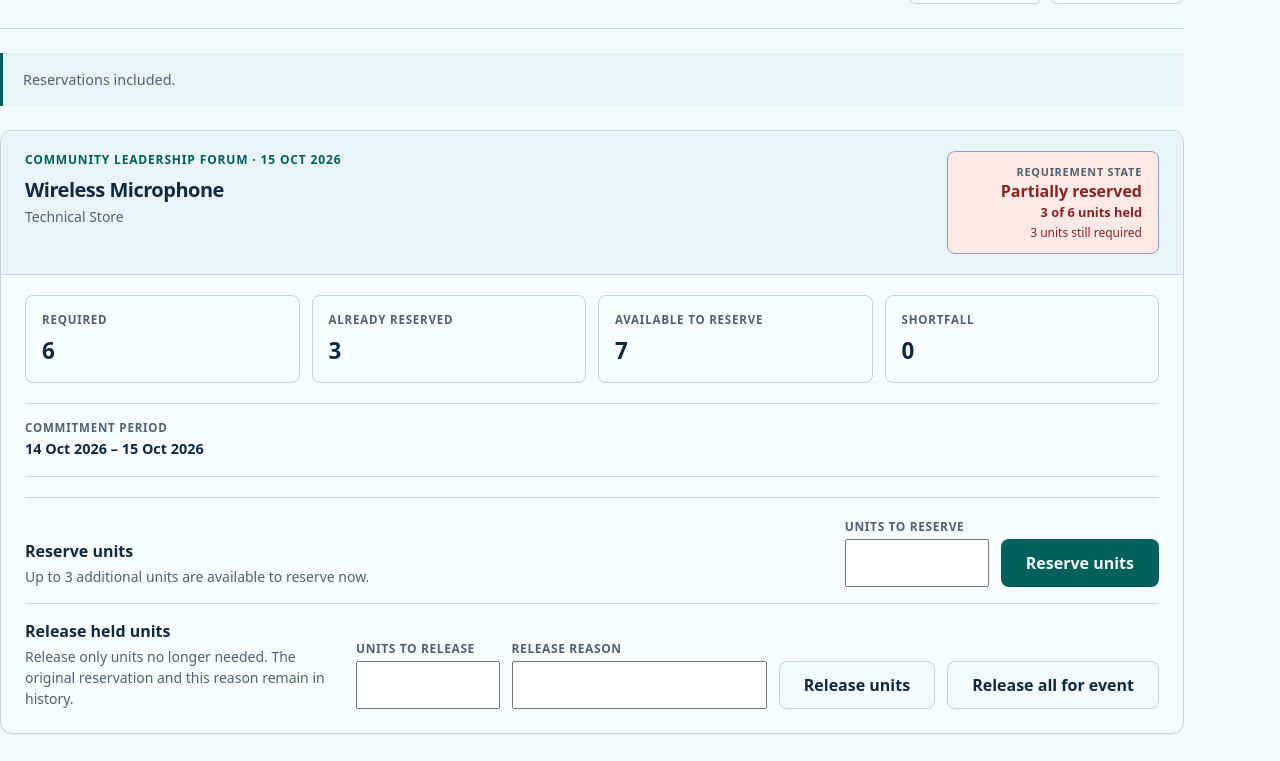
Scenario: [TC-SPL-98-06] validates the reason and held quantity before a release request
Type "4" into the number field labelled "Units to release" at {"x": 428, "y": 685}, box [356, 661, 500, 709]
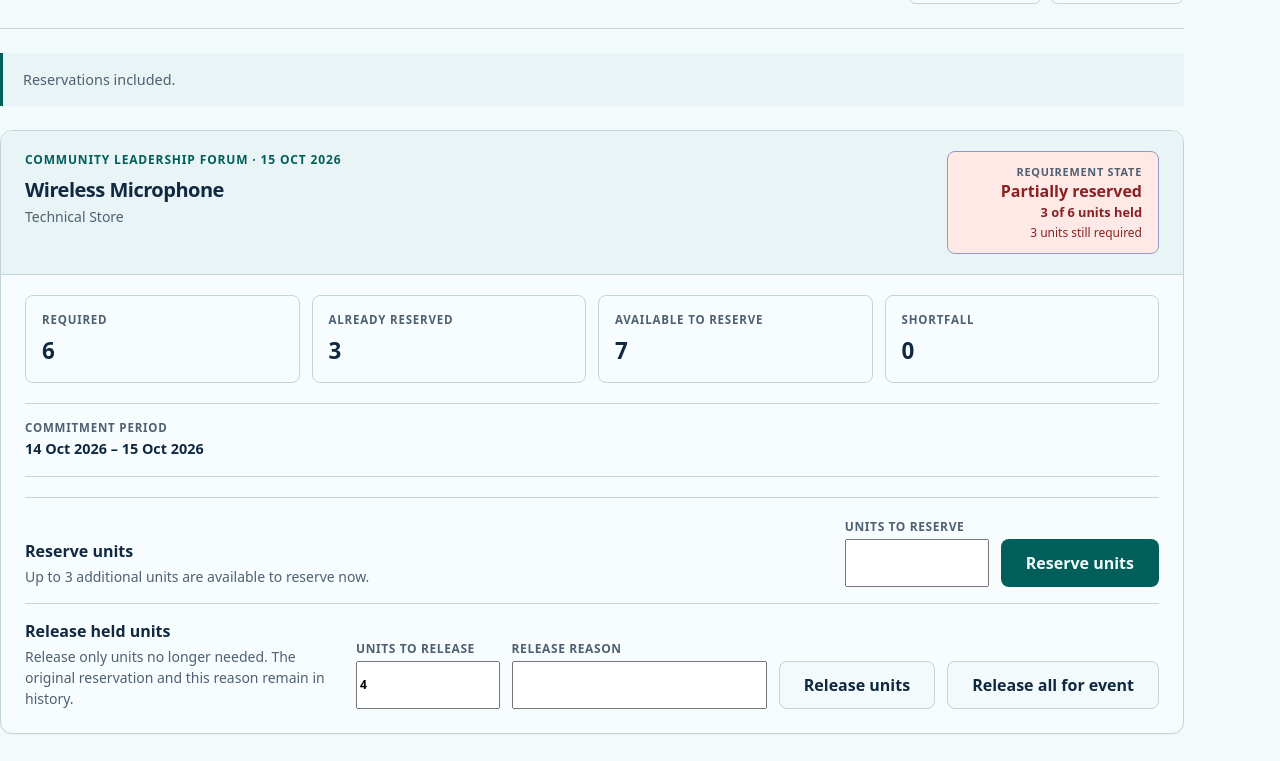
Click the button "Release units" at {"x": 857, "y": 685}, box [779, 661, 935, 709]
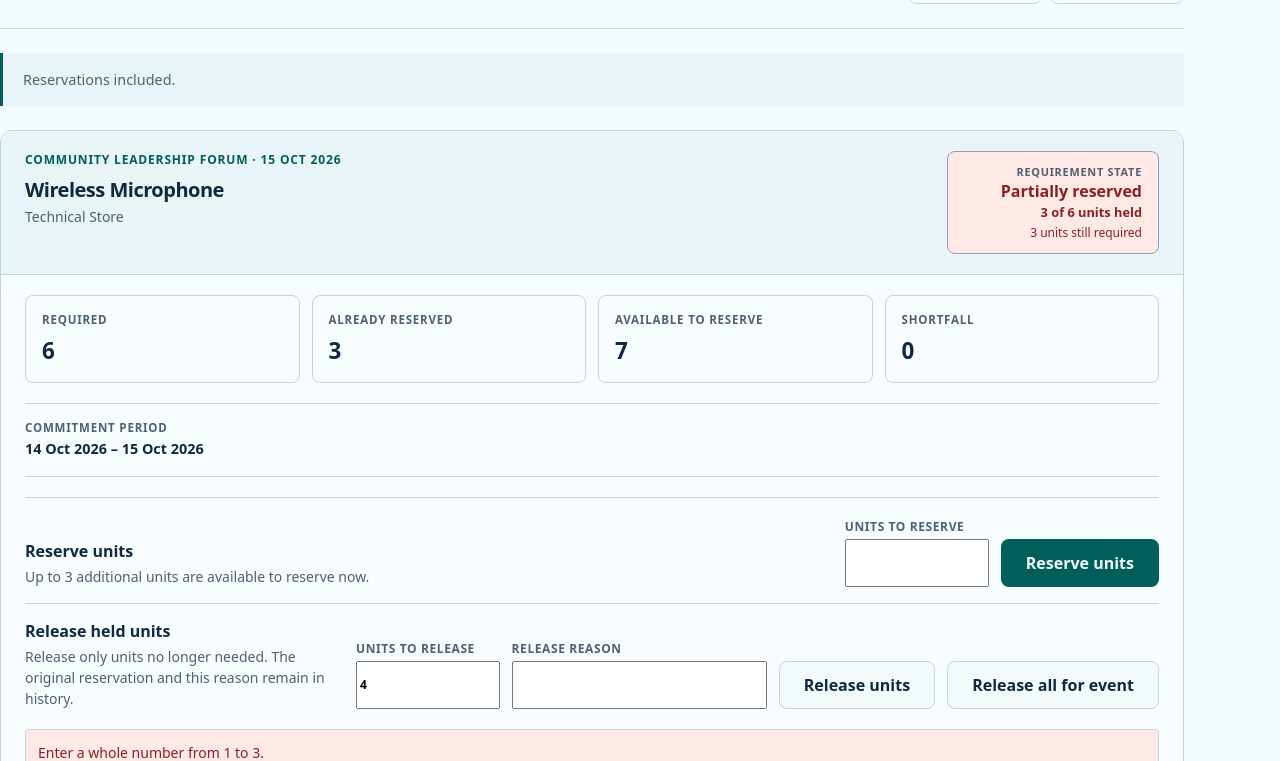
Replace the text in the number field labelled "Units to release" with "2" at {"x": 428, "y": 685}, box [356, 661, 500, 709]
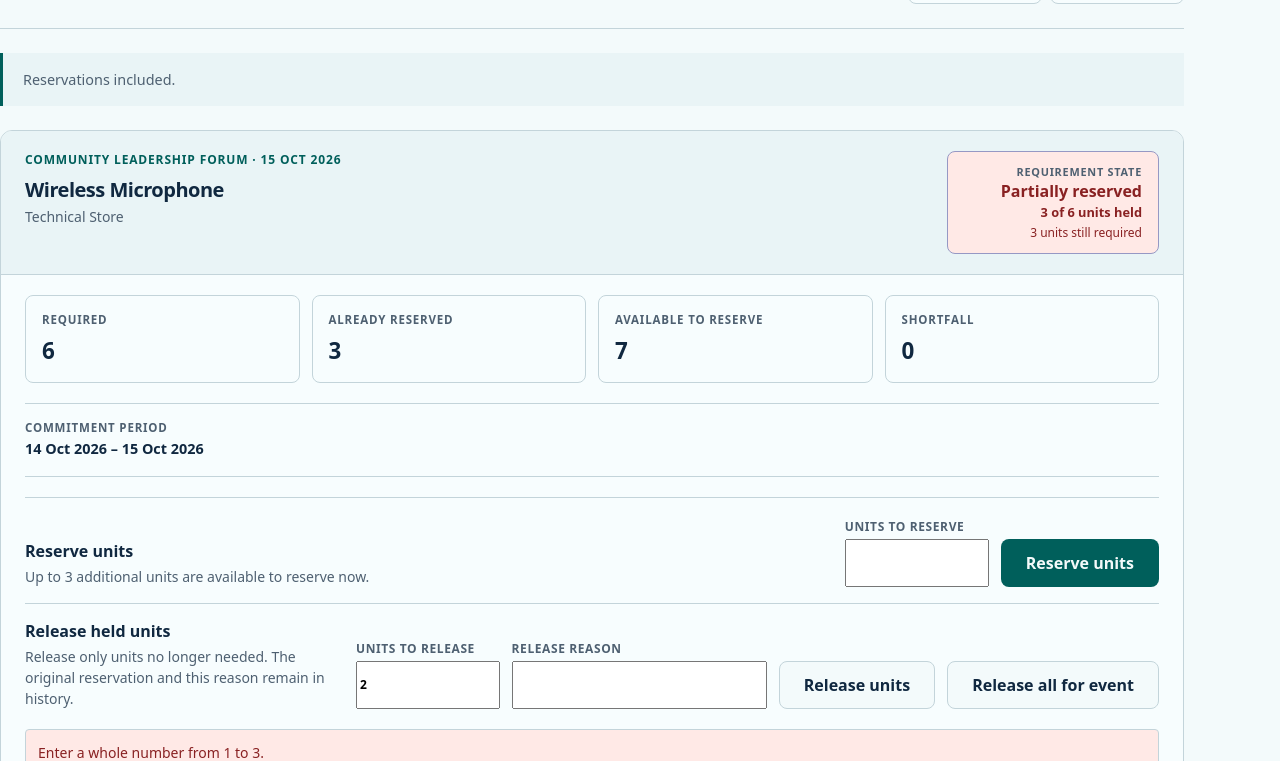
Click the button "Release units" at {"x": 857, "y": 685}, box [779, 661, 935, 709]
(page scrolled)
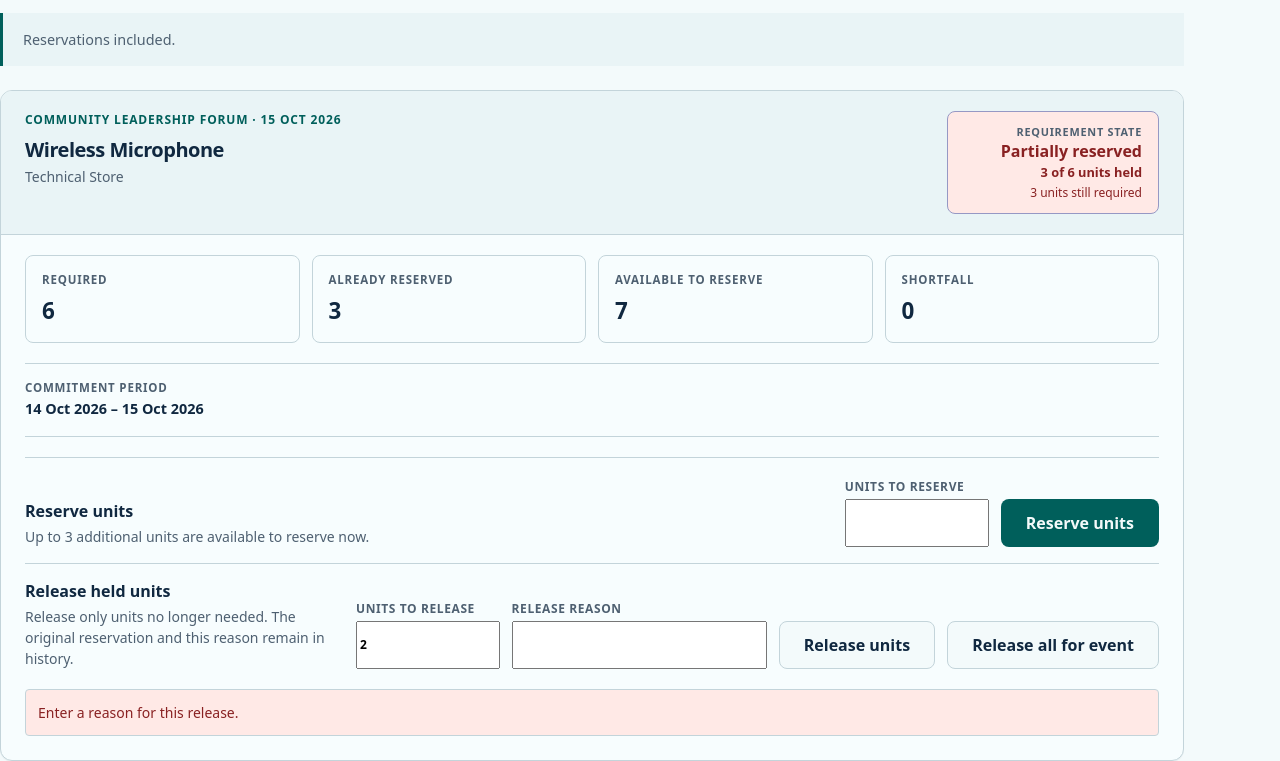
Check: the message "Enter a reason for this release." is shown, box [25, 689, 1159, 736]
